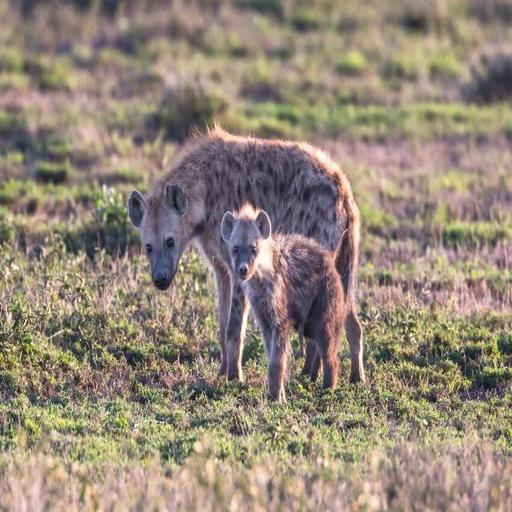Hyena: (126, 128, 375, 413), (216, 203, 372, 405)
